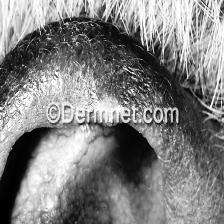Benign Marking or Mole: (23, 147, 146, 224), (43, 42, 138, 98)
